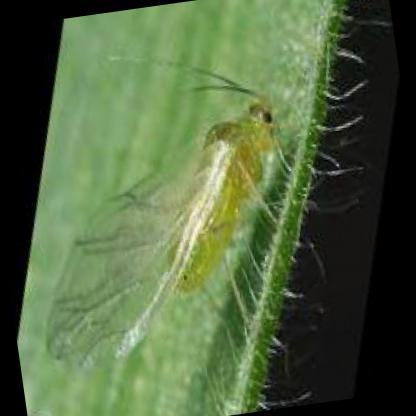schizaphis graminum: (46, 95, 280, 362)
